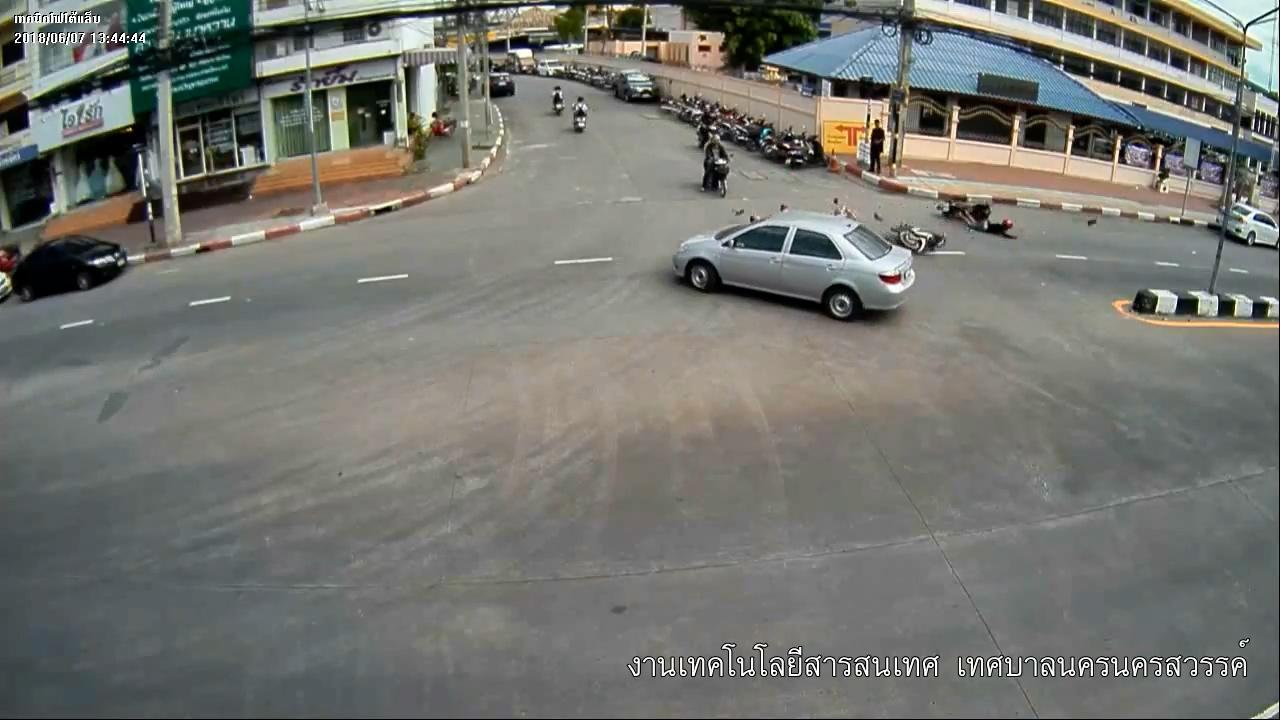accident: (955, 205, 1021, 242)
